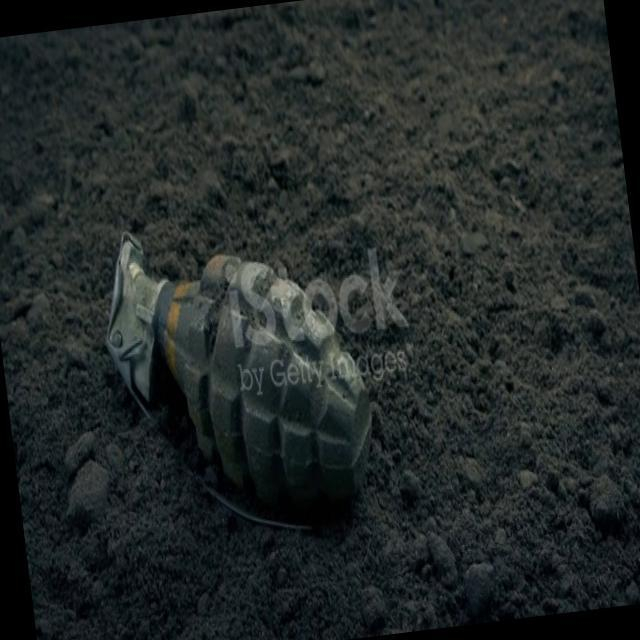grenade: (91, 196, 393, 564)
